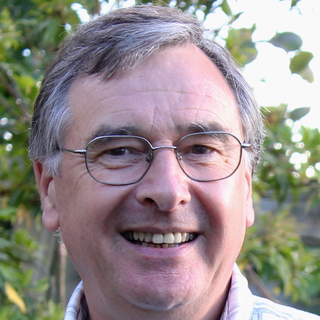eye: (95, 142, 141, 164), (179, 141, 223, 163)
